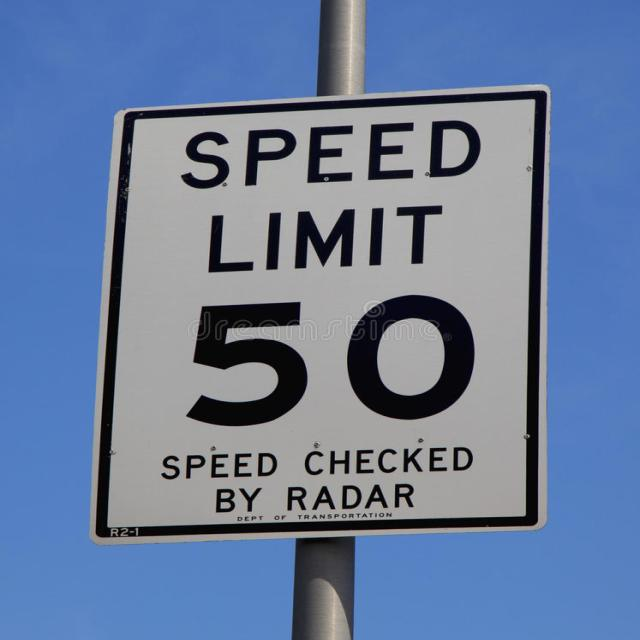speedLimit50: (100, 76, 550, 543)
